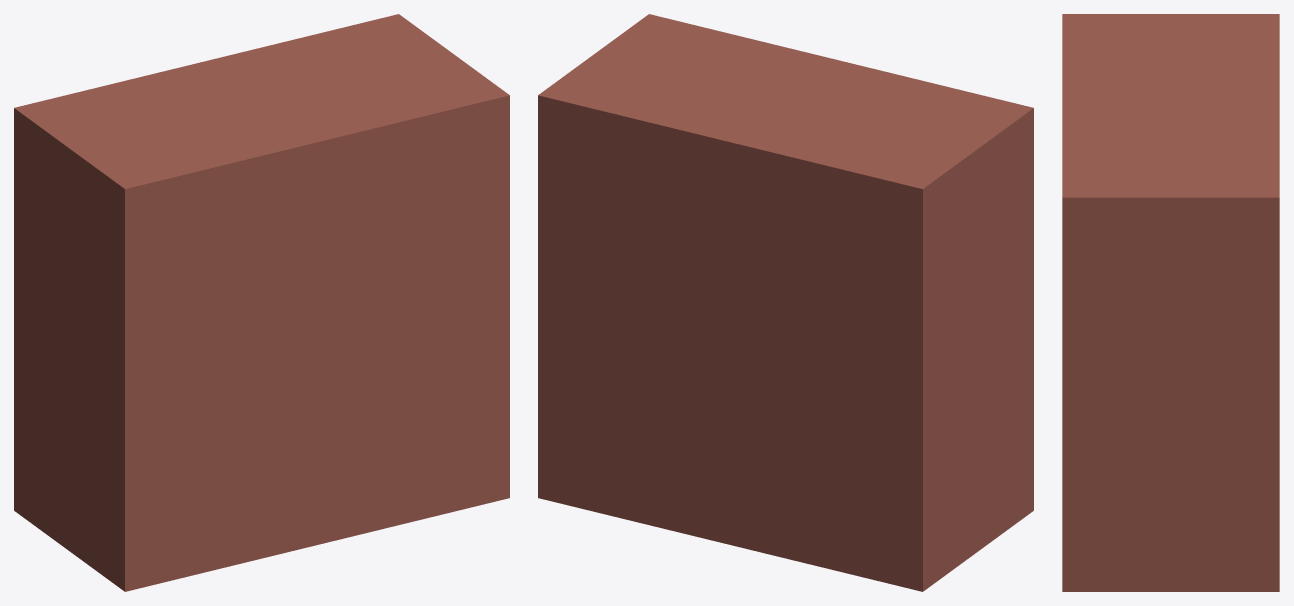
Rendered from Hazard_VerticalSlab.glb.
3 views of the same model, side by side, from view 1: azimuth 30°, elevation 25°; view 2: azimuth 150°, elevation 25°; view 3: azimuth 270°, elevation 25° (orthographic). The views are drawn at different scales.
Parts seen in each view (by area): view 1: Hazard_VerticalSlab_body; view 2: Hazard_VerticalSlab_body; view 3: Hazard_VerticalSlab_body.
Boxes of the visible parts, x1,y1,x2,y2 form: Hazard_VerticalSlab_body: [14, 14, 509, 591]; Hazard_VerticalSlab_body: [538, 14, 1033, 591]; Hazard_VerticalSlab_body: [1062, 14, 1279, 591].
Bounding box in the file's own units: 1 × 1 × 0.5.
